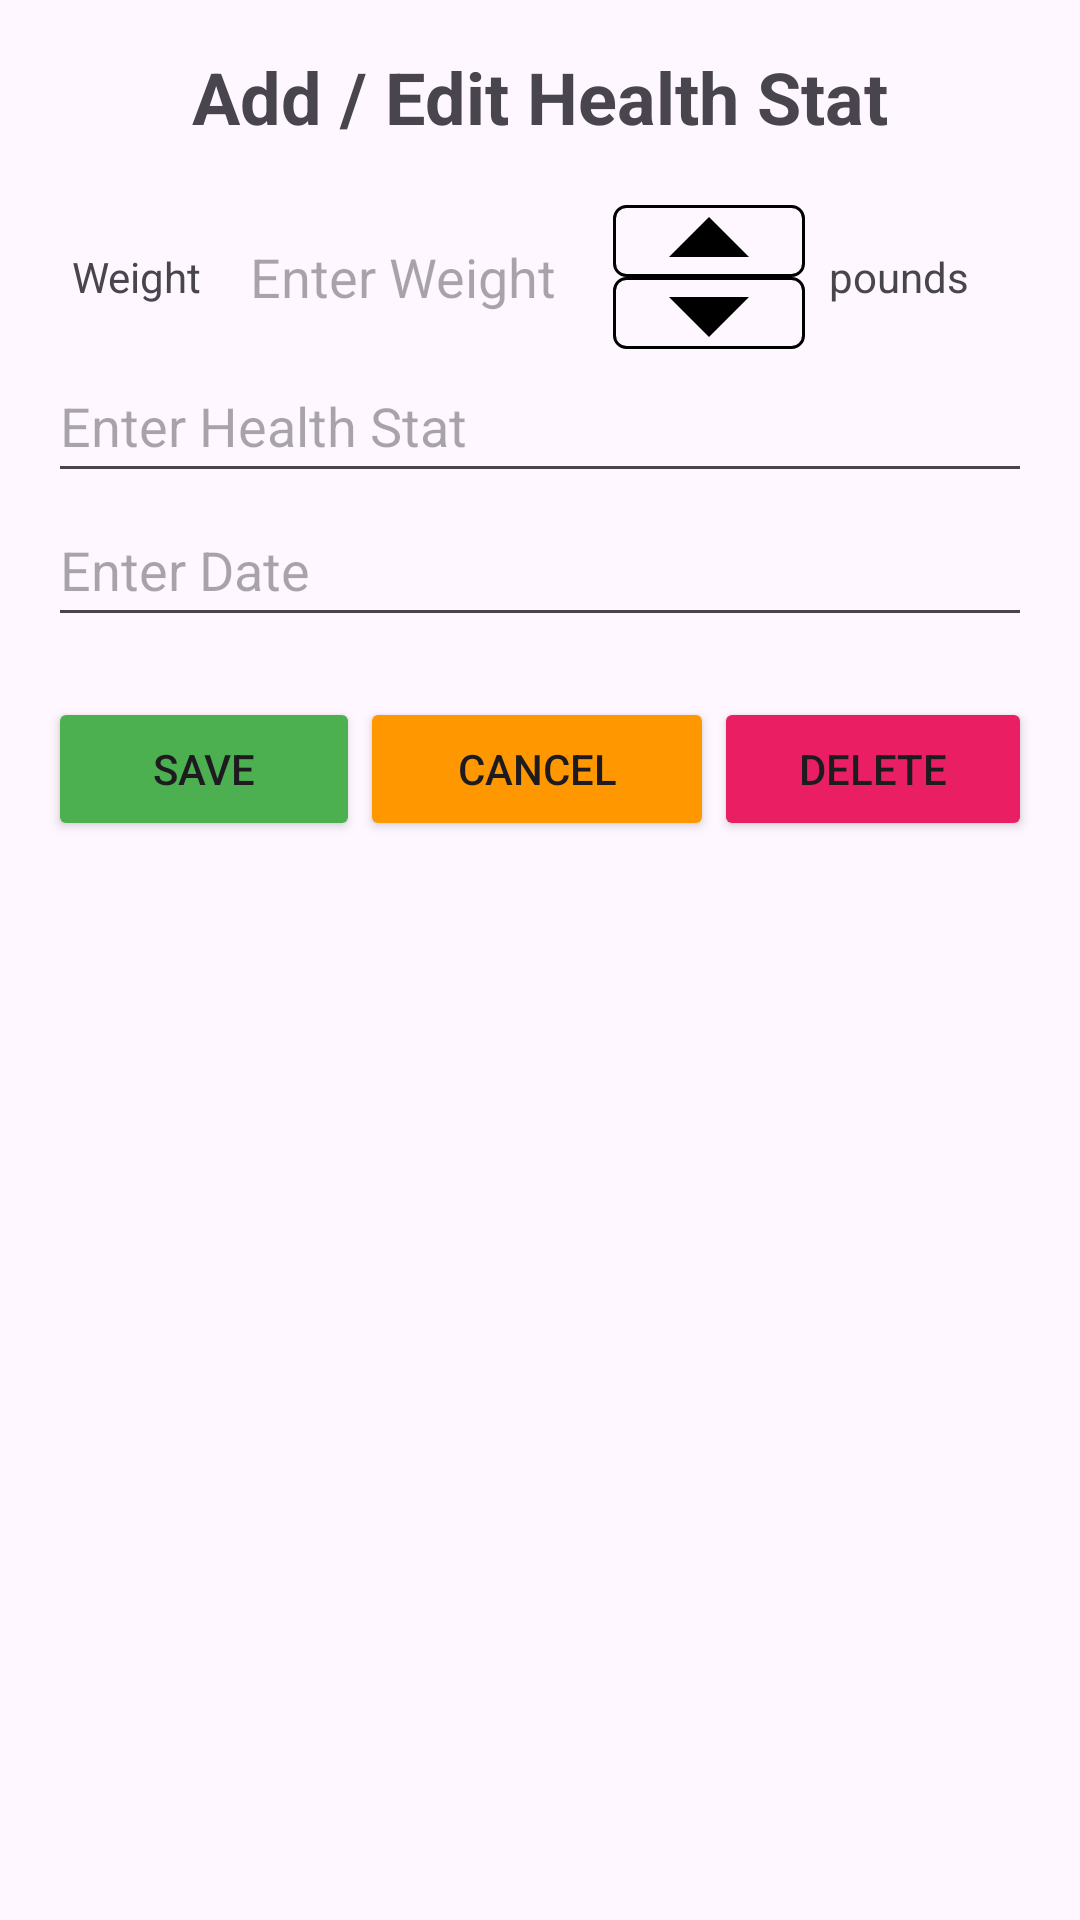

Point at icon controls on the screen. Image size 1080px×1920px, points as point (x, y).
Decrement: point (709, 317)
Increment: point (709, 237)
